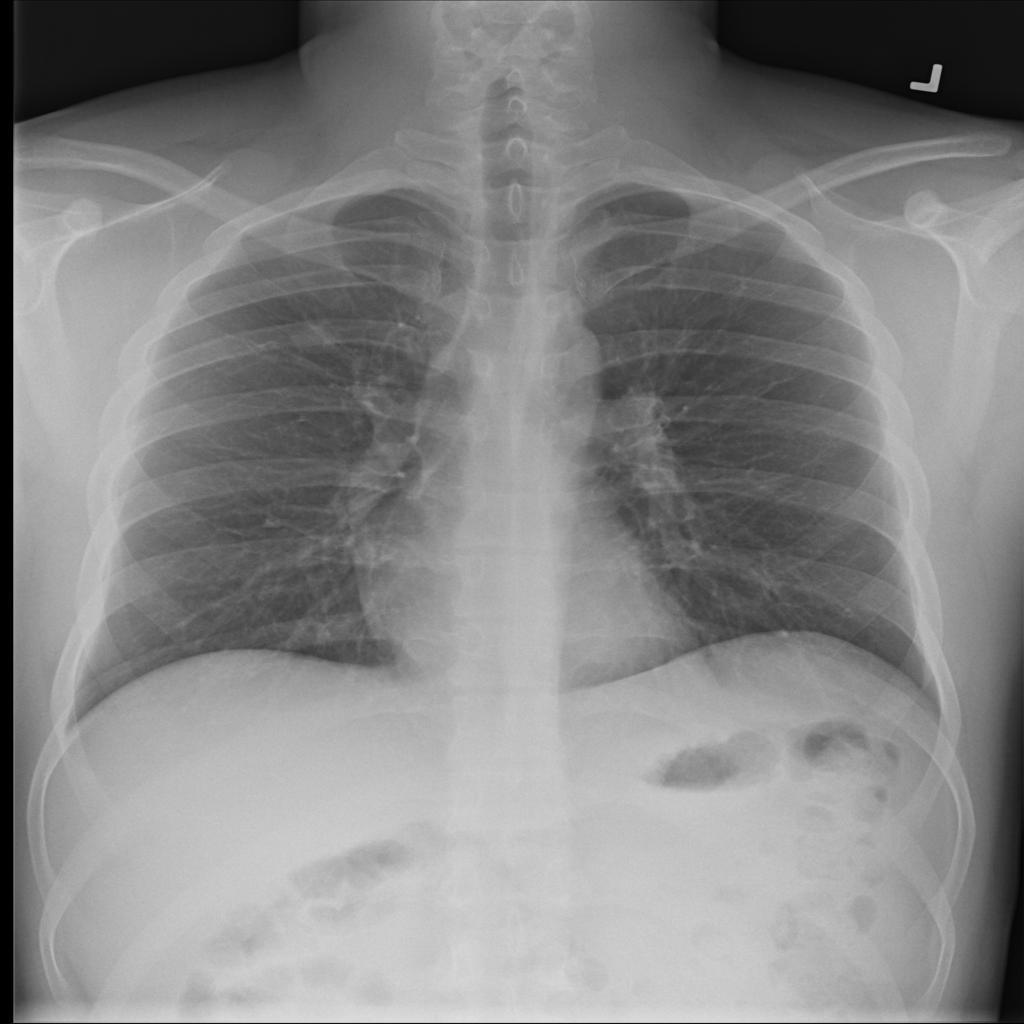nodule: (271, 307, 359, 363)
